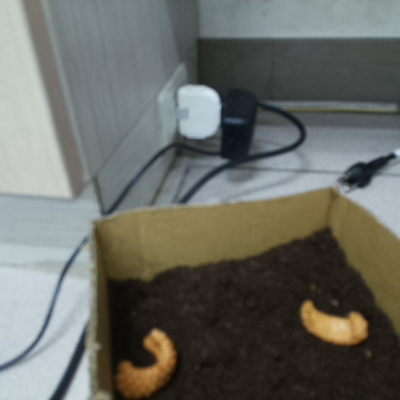eggs: (112, 321, 183, 400), (290, 292, 370, 346)
